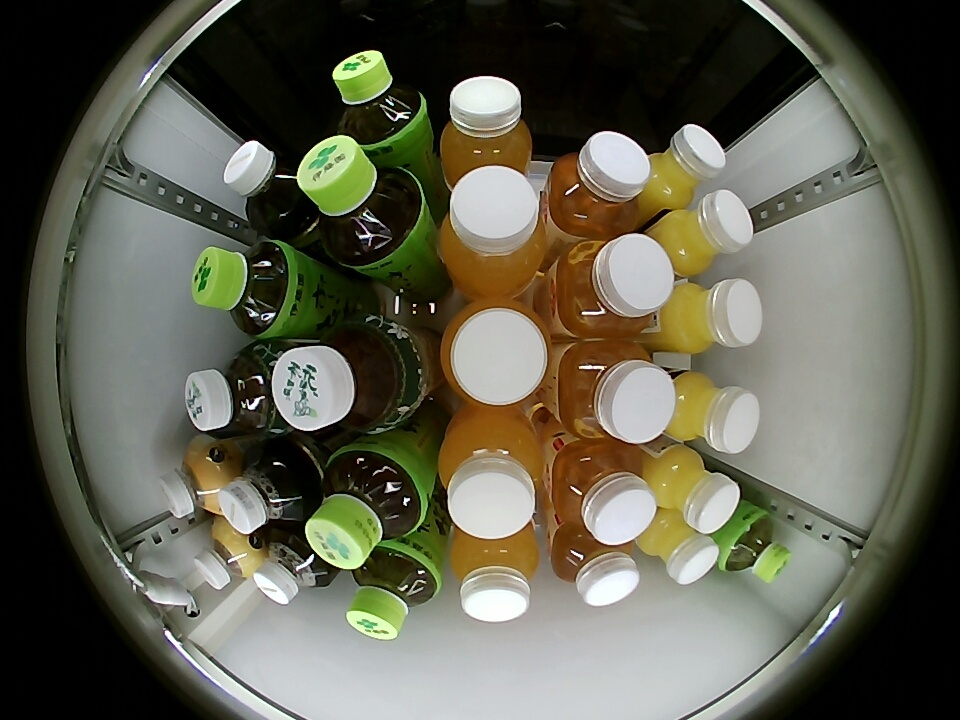asamu: (158, 441, 229, 519), (193, 521, 261, 589)
chapai: (554, 340, 675, 445), (551, 235, 672, 338), (543, 132, 650, 239), (551, 441, 655, 545), (549, 520, 639, 606)
moliqingcha: (271, 313, 421, 435), (185, 342, 287, 440)
nfc: (646, 190, 755, 277), (642, 445, 740, 533), (662, 370, 760, 453), (659, 280, 763, 354), (639, 124, 726, 212), (637, 508, 718, 584)
weic: (438, 165, 549, 296), (437, 411, 545, 538), (440, 298, 551, 407), (439, 76, 533, 188), (449, 521, 540, 622)
wulongcha: (223, 141, 311, 234), (218, 447, 309, 535), (253, 527, 335, 604)
yitengyuan: (297, 136, 425, 271), (306, 441, 429, 569), (333, 50, 431, 157), (192, 241, 299, 338), (346, 539, 442, 641), (716, 508, 791, 583)
